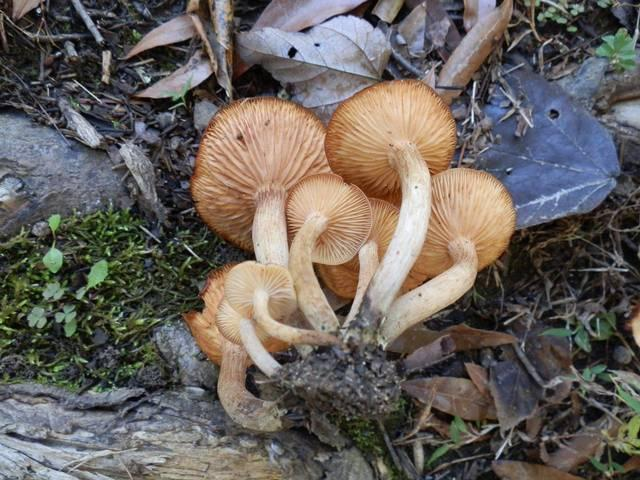edible_mushroom: (184, 78, 517, 431)
